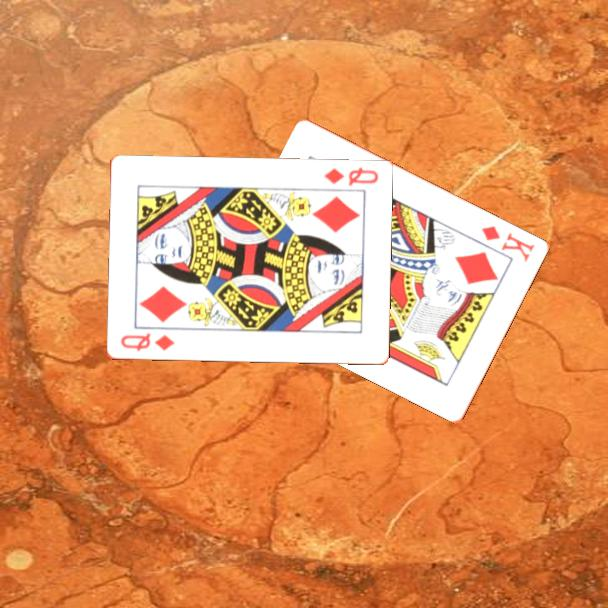d12: (117, 330, 177, 355), (320, 164, 380, 189)
d13: (478, 222, 538, 265)
